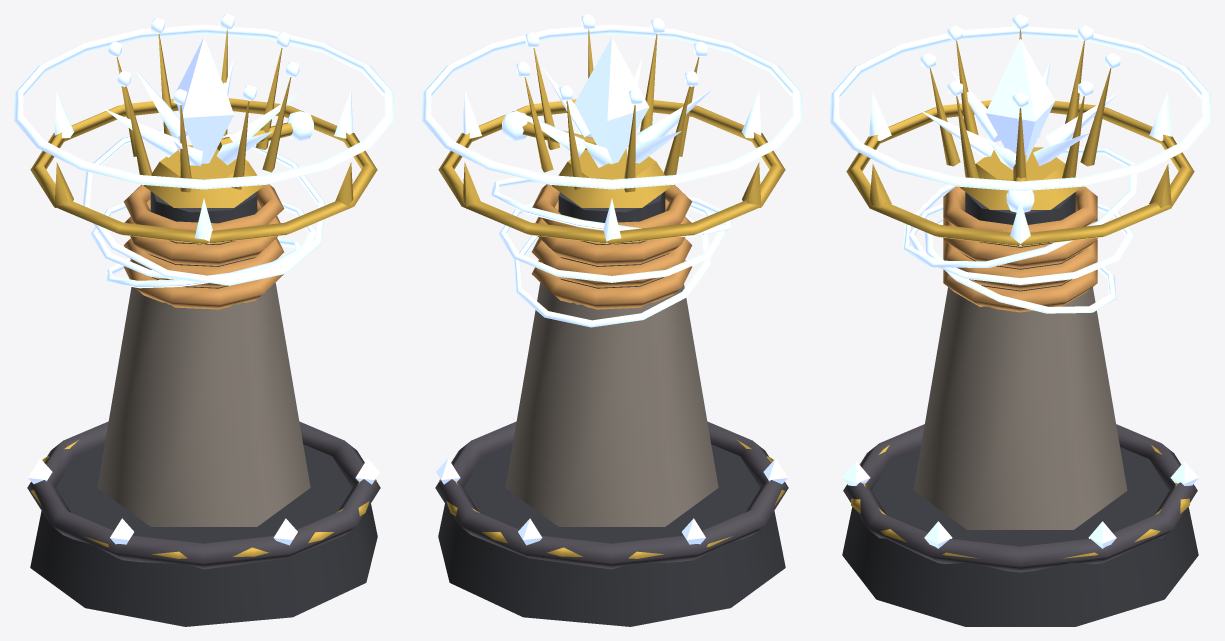
Rendered from tower_chain_tempest_ultimate.glb.
The picture shows the model from 3 angles, left to right: view 1: azimuth 30°, elevation 25°; view 2: azimuth 150°, elevation 25°; view 3: azimuth 270°, elevation 25°; orthographic projection.
Parts seen in each view (by area): view 1: shaft, base, base_rim, ult_halo, ult_crown_band, crystal_core, antenna_ring_2, cap, coil_2, coil_0, coil_3, coil_core (+13 smaller); view 2: shaft, base, base_rim, ult_halo, ult_crown_band, crystal_core, cap, coil_0, coil_2, coil_1, antenna_ring_0, antenna_ring_1 (+15 smaller); view 3: shaft, base, base_rim, ult_halo, ult_crown_band, crystal_core, cap, antenna_ring_2, coil_3, coil_0, coil_1, coil_2 (+18 smaller).
Boxes of the visible parts, x1=… form: shaft: x1=97, y1=277, x2=310, y2=526; base: x1=30, y1=444, x2=377, y2=626; base_rim: x1=27, y1=421, x2=380, y2=569; ult_halo: x1=14, y1=24, x2=393, y2=189; ult_crown_band: x1=30, y1=98, x2=377, y2=244; crystal_core: x1=176, y1=37, x2=233, y2=163; antenna_ring_2: x1=83, y1=129, x2=325, y2=285; cap: x1=143, y1=145, x2=264, y2=207; coil_2: x1=124, y1=199, x2=280, y2=265; coil_0: x1=124, y1=260, x2=283, y2=309; coil_3: x1=123, y1=184, x2=284, y2=244; coil_core: x1=150, y1=191, x2=257, y2=288; shaft: x1=505, y1=277, x2=718, y2=526; base: x1=438, y1=444, x2=785, y2=626; base_rim: x1=435, y1=421, x2=788, y2=569; ult_halo: x1=422, y1=24, x2=801, y2=189; ult_crown_band: x1=438, y1=99, x2=785, y2=244; crystal_core: x1=574, y1=37, x2=649, y2=164; cap: x1=551, y1=145, x2=672, y2=207; coil_0: x1=532, y1=259, x2=691, y2=309; coil_2: x1=535, y1=199, x2=691, y2=265; coil_1: x1=531, y1=238, x2=692, y2=287; antenna_ring_0: x1=513, y1=213, x2=710, y2=327; antenna_ring_1: x1=498, y1=201, x2=725, y2=282; shaft: x1=913, y1=287, x2=1127, y2=529; base: x1=842, y1=447, x2=1198, y2=626; base_rim: x1=843, y1=424, x2=1197, y2=572; ult_halo: x1=830, y1=26, x2=1210, y2=191; ult_crown_band: x1=846, y1=100, x2=1194, y2=246; crystal_core: x1=985, y1=38, x2=1055, y2=162; cap: x1=960, y1=147, x2=1080, y2=209; antenna_ring_2: x1=902, y1=148, x2=1137, y2=267; coil_3: x1=943, y1=186, x2=1097, y2=246; coil_0: x1=943, y1=262, x2=1097, y2=312; coil_1: x1=943, y1=240, x2=1097, y2=290; coil_2: x1=943, y1=218, x2=1097, y2=268.
Size of the model in its own units: 0.434 by 0.64 by 0.4274.
